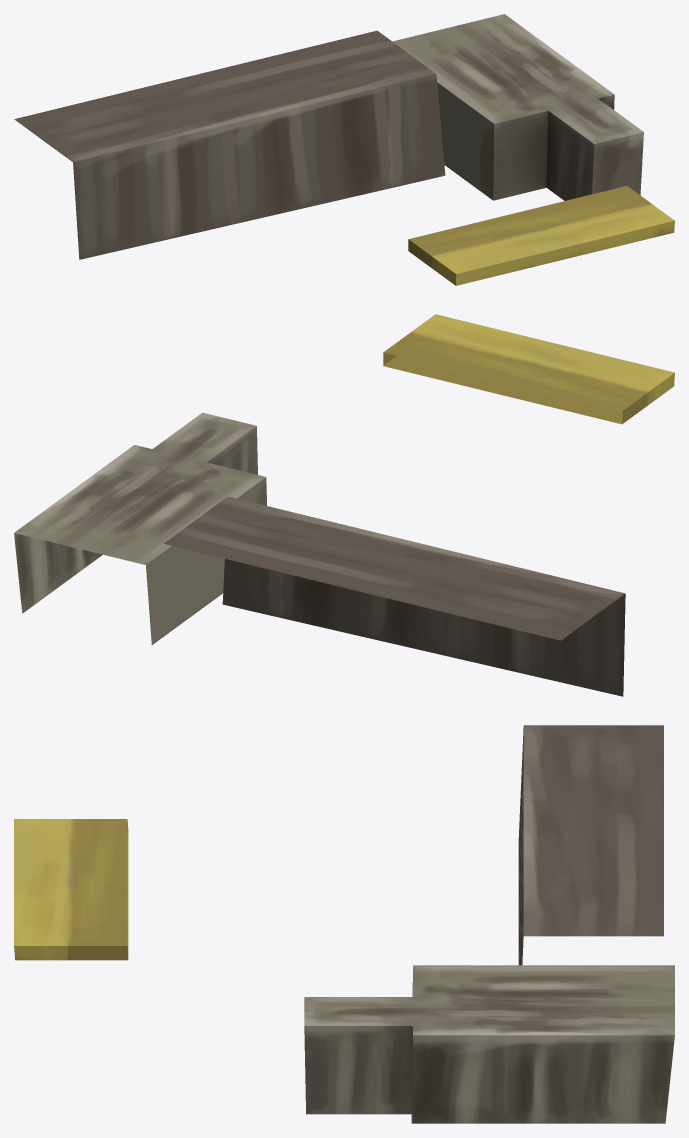
The model's file is kitchen part.obj.
3 views of the same model, one above another, from view 1: azimuth 30°, elevation 25°; view 2: azimuth 150°, elevation 25°; view 3: azimuth 270°, elevation 25° (orthographic). The views are drawn at different scales.
Visible parts, largest first — view 1: polySurface1457, polySurface1456 polySurface1247; view 2: polySurface1457, polySurface1456 polySurface1247; view 3: polySurface1456 polySurface1247, polySurface1457.
Part boxes in pixels (bbox=[...]): polySurface1457: bbox=[14, 30, 674, 285]; polySurface1456 polySurface1247: bbox=[392, 14, 643, 200]; polySurface1457: bbox=[163, 314, 674, 696]; polySurface1456 polySurface1247: bbox=[14, 412, 266, 644]; polySurface1456 polySurface1247: bbox=[304, 965, 674, 1123]; polySurface1457: bbox=[14, 725, 663, 965].
Size of the model in its own units: 9.14 by 1.87 by 8.87.
2 materials, 2 textured.
